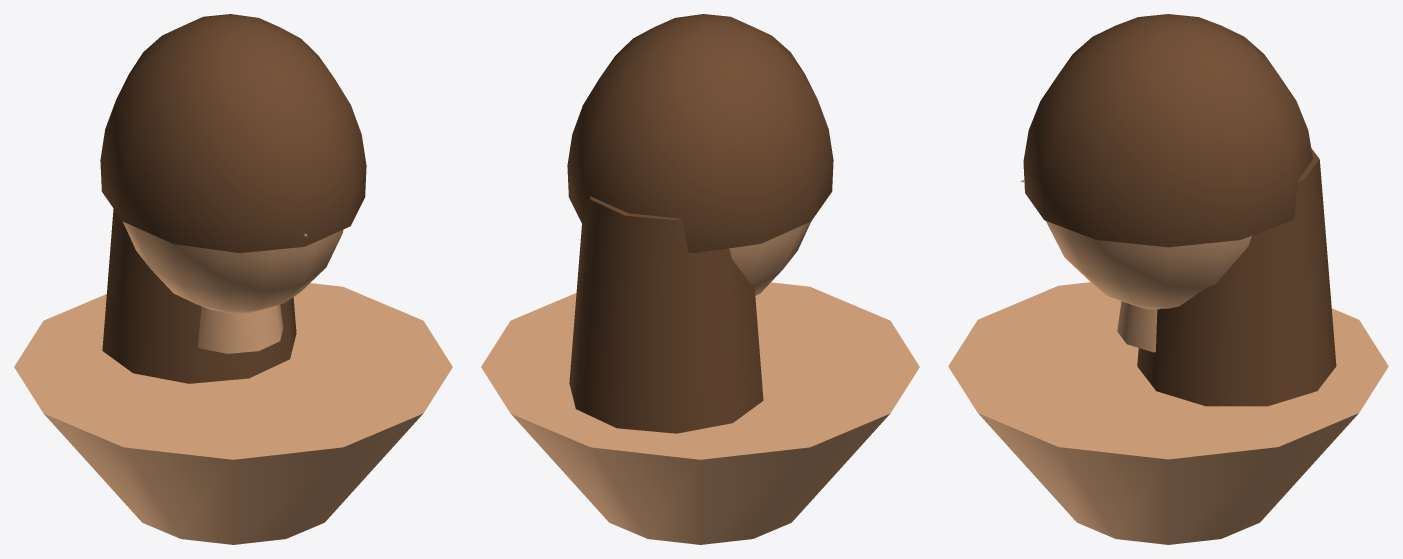
Rendered from raw_001.glb.
3 renders of one model, left to right at view 1: azimuth 30°, elevation 25°; view 2: azimuth 150°, elevation 25°; view 3: azimuth 270°, elevation 25°, orthographic.
Size of the model in its own units: 1.81 by 2.16 by 1.81.
